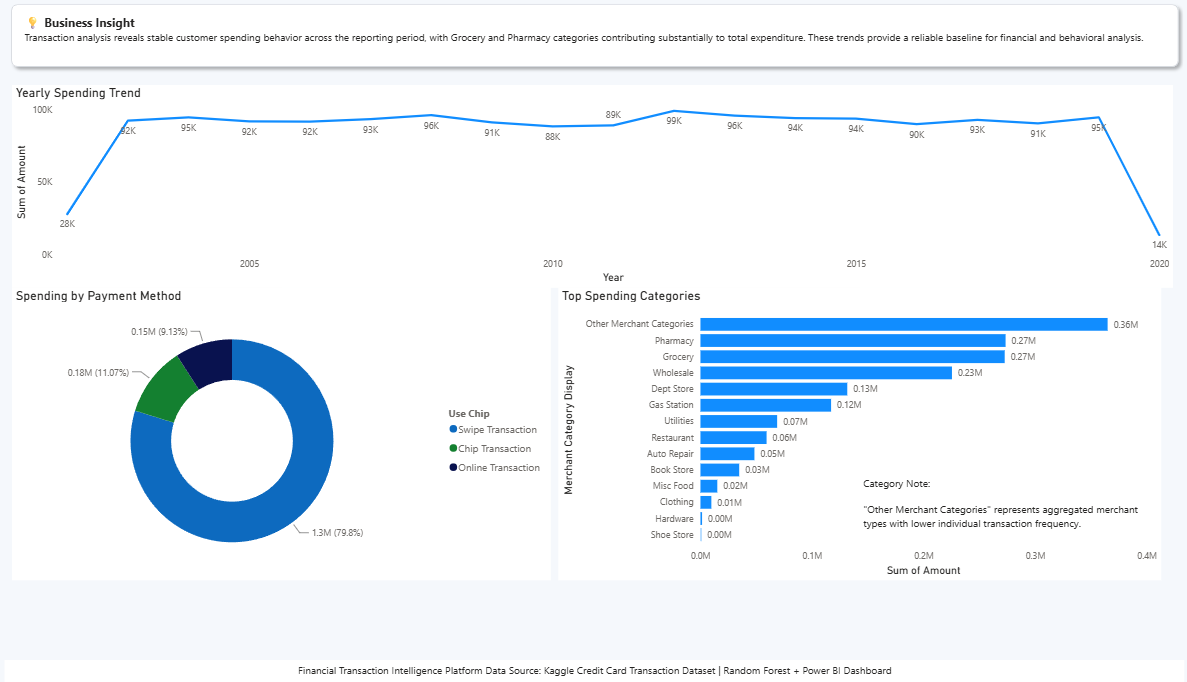

Layout of this report page (visuals, bound fields, positions):
{"tool":"powerbi","page":{"name":"Executive Overview","canvas":[1600,1400],"ordinal":0},"visuals":[{"type":"textbox","box":[9.4,0,1590.5,70.4],"z":0},{"type":"cardVisual","fields":{"Data":["_Measures.Total Spending","_Measures.Total Transactions","_Measures.Fraud Rate","_Measures.Fraud Count","_Measures.Average Transaction"]},"box":[10,258.6,1574.3,221.4],"z":1000},{"type":"lineChart","title":"Yearly Spending Trend","fields":{"Category":["cleaned_transactions.Year"],"Y":["Sum(cleaned_transactions.Amount)"]},"box":[20,600,1548,270],"z":2000},{"type":"donutChart","title":"Spending by Payment Method","fields":{"Category":["cleaned_transactions.Use Chip"],"Y":["Sum(cleaned_transactions.Amount)"]},"box":[20,870,718,390],"z":3000},{"type":"barChart","title":"Top Spending Categories","fields":{"Y":["Sum(cleaned_transactions.Amount)"],"Category":["cleaned_transactions.Merchant Category Display"]},"box":[748,870,804,390],"z":4000},{"type":"slicer","title":"Year Filter","fields":{"Values":["cleaned_transactions.Year"]},"box":[47.1,155.7,138.6,84.3],"z":5000},{"type":"slicer","title":"Fraud Status","fields":{"Values":["cleaned_transactions.Is Fraud?"]},"box":[198.6,155.7,165.7,84.3],"z":6000},{"type":"slicer","fields":{"Values":["cleaned_transactions.Use Chip"]},"box":[376.2,172.5,203.8,67.5],"z":7000},{"type":"pageNavigator","box":[10,84.3,600,38.6],"z":8000},{"type":"textbox","box":[10,1366,1574,34],"z":8001},{"type":"shape","box":[10,482.9,1574.3,101.4],"z":8002},{"type":"textbox","box":[31.4,500,1520,58.6],"z":8003},{"type":"textbox","box":[1150,1116,382,88],"z":8004}]}

Visuals, with their boxes on the page's 1600x1400 design canvas (x1, y1, x2, y2). These are canvas units, not pixel positions in the 1187x682 screenshot, which may show the page scaled, cropped or inside an application window:
textbox: {"x1": 9, "y1": 0, "x2": 1600, "y2": 70}
cardVisual - _Measures.Total Spending x _Measures.Total Transactions: {"x1": 10, "y1": 259, "x2": 1584, "y2": 480}
"Yearly Spending Trend" lineChart: {"x1": 20, "y1": 600, "x2": 1568, "y2": 870}
"Spending by Payment Method" donutChart: {"x1": 20, "y1": 870, "x2": 738, "y2": 1260}
"Top Spending Categories" barChart: {"x1": 748, "y1": 870, "x2": 1552, "y2": 1260}
"Year Filter" slicer: {"x1": 47, "y1": 156, "x2": 186, "y2": 240}
"Fraud Status" slicer: {"x1": 199, "y1": 156, "x2": 364, "y2": 240}
slicer - cleaned_transactions.Use Chip: {"x1": 376, "y1": 172, "x2": 580, "y2": 240}
pageNavigator: {"x1": 10, "y1": 84, "x2": 610, "y2": 123}
textbox: {"x1": 10, "y1": 1366, "x2": 1584, "y2": 1400}
shape: {"x1": 10, "y1": 483, "x2": 1584, "y2": 584}
textbox: {"x1": 31, "y1": 500, "x2": 1551, "y2": 559}
textbox: {"x1": 1150, "y1": 1116, "x2": 1532, "y2": 1204}
